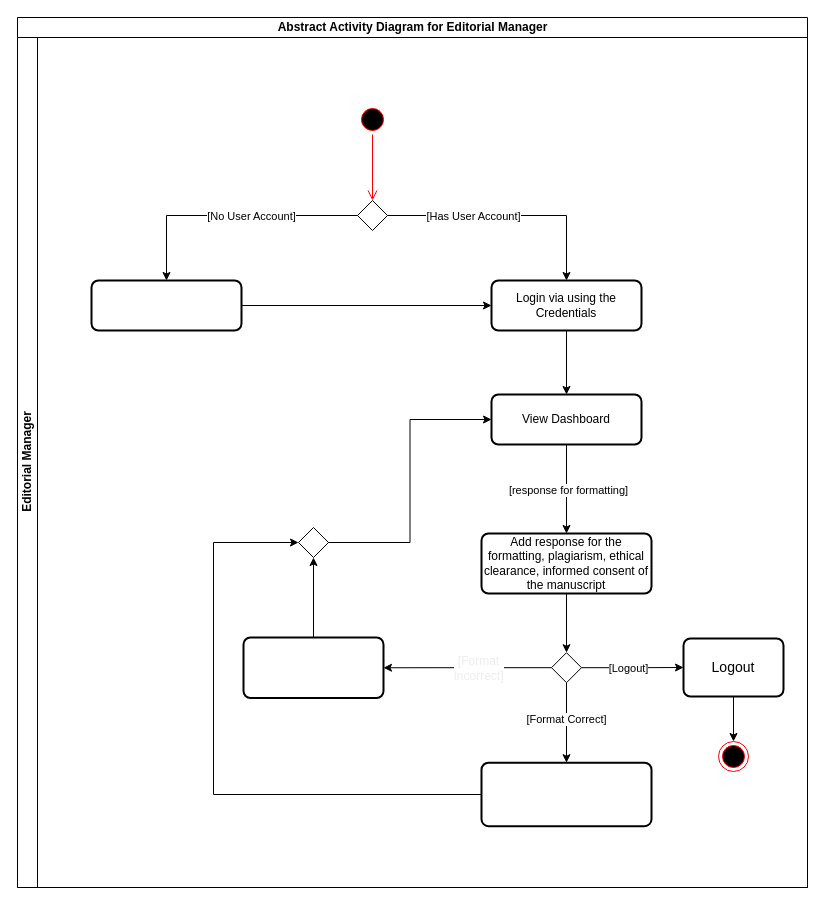
This 825x905 diagram has some shape labels left out. The centre of each missing label's shape, as x and y in pixels:
Create editorial manager account: point (166, 305)
Desk Rejection(Input feedback comments regarding the errors): point (313, 667)
Send format-approved Manuscripts to the relevant Track Editors and Chief Editor: point (566, 794)
